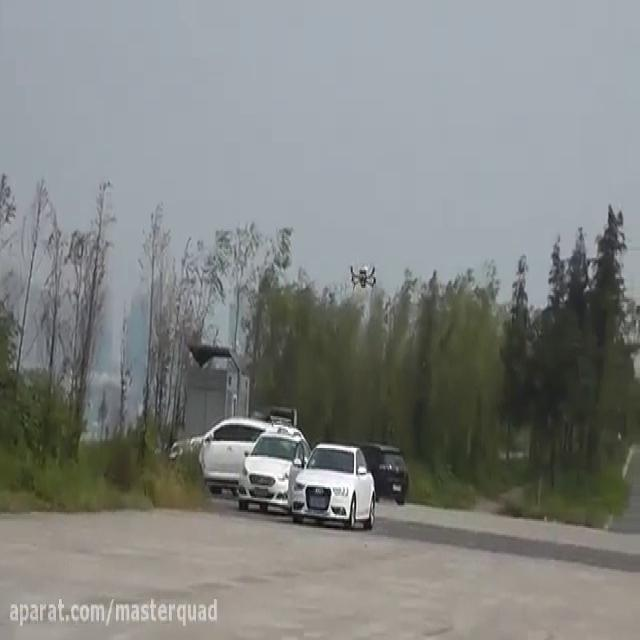drone: (348, 256, 378, 293)
